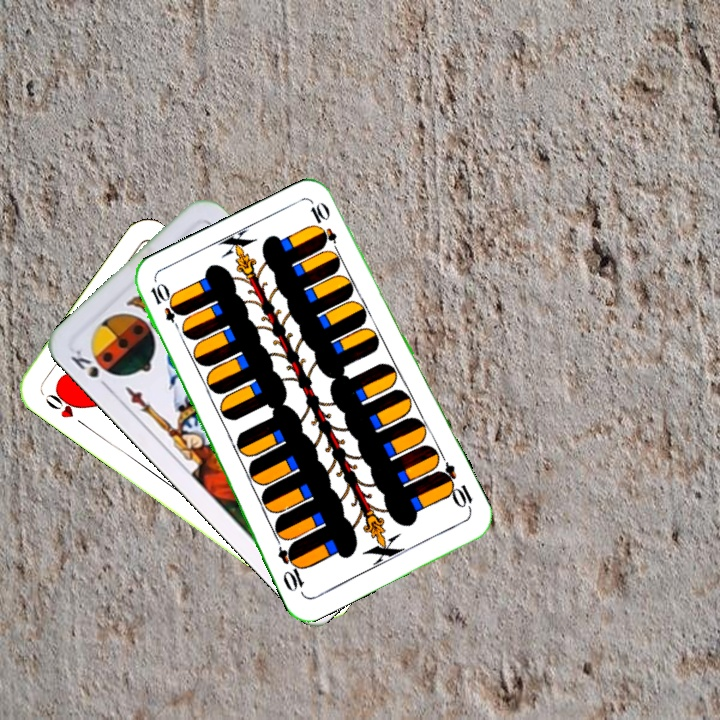E10: (434, 459, 476, 515), (146, 279, 186, 336)
HO: (40, 386, 90, 430)
SK: (66, 345, 113, 393)
